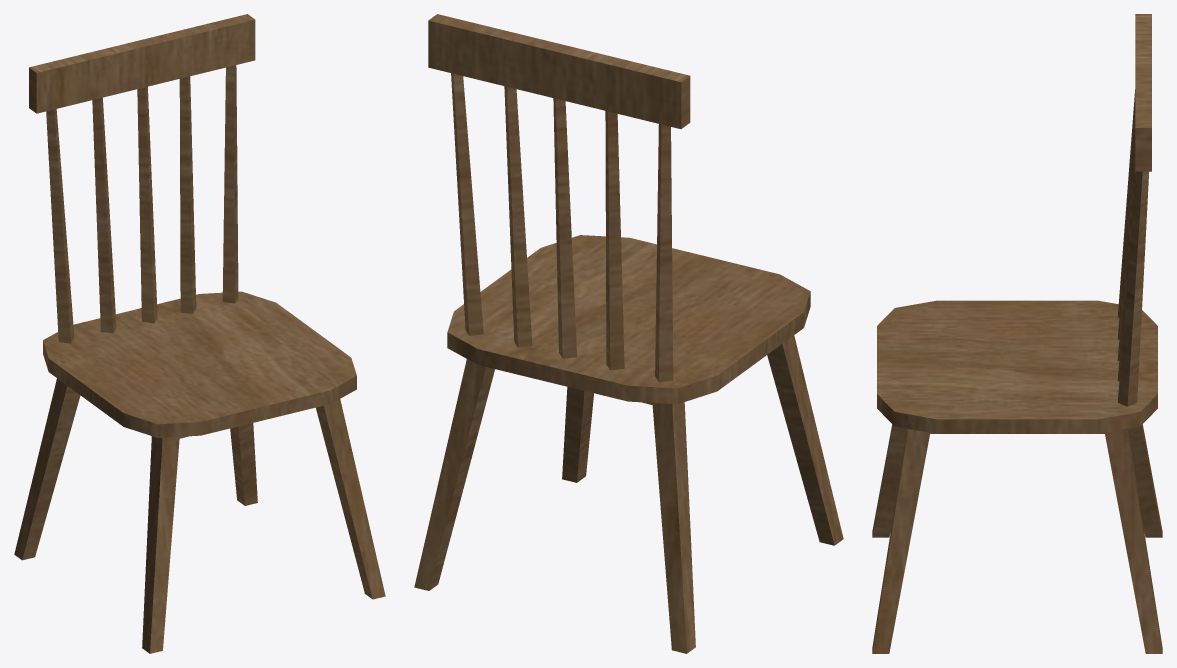
Rendered from Chair.gltf.
The picture shows the model from 3 angles, left to right: view 1: azimuth 30°, elevation 25°; view 2: azimuth 150°, elevation 25°; view 3: azimuth 270°, elevation 25°; orthographic projection. The views are drawn at different scales.
Visible parts, largest first — view 1: Chair_04; view 2: Chair_04; view 3: Chair_04.
Part boxes in pixels (x1,y1,x2,y2): Chair_04: (14,14,385,653); Chair_04: (414,14,843,653); Chair_04: (872,14,1162,653).
Size of the model in its own units: 0.3684 by 0.7295 by 0.3674.
Materials: 1 (1 with a texture image).
